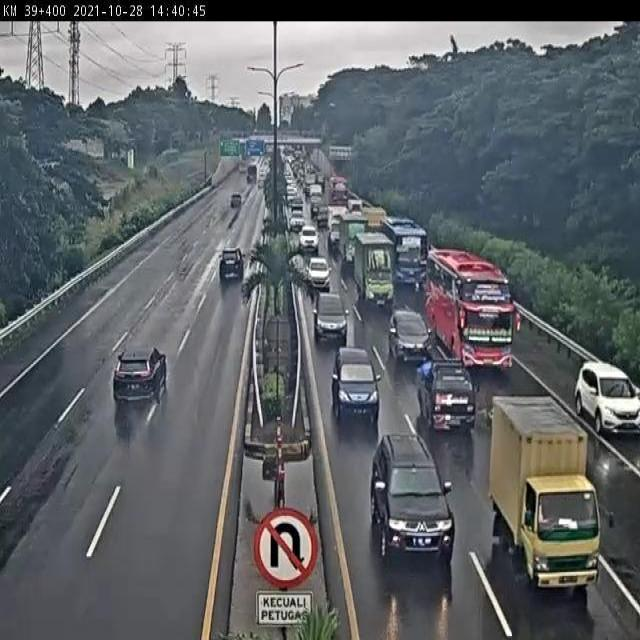ARABA: (370, 432, 457, 565), (416, 357, 480, 435), (574, 363, 640, 433), (329, 344, 382, 423), (387, 306, 433, 366), (312, 289, 349, 343), (305, 256, 332, 292), (218, 245, 245, 280)
KAMYONET: (490, 394, 602, 590), (112, 345, 169, 404), (354, 232, 397, 309)
OTOBUS: (426, 244, 515, 372), (379, 220, 425, 288)
